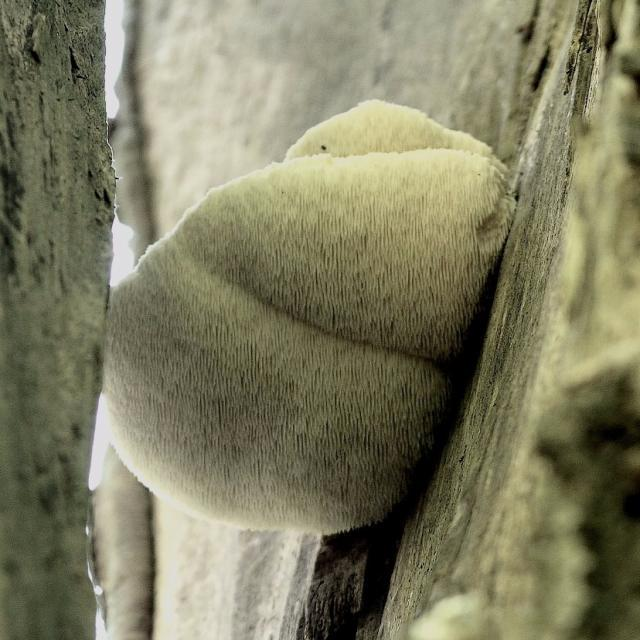Hericium erinaceus: (89, 102, 513, 537)
